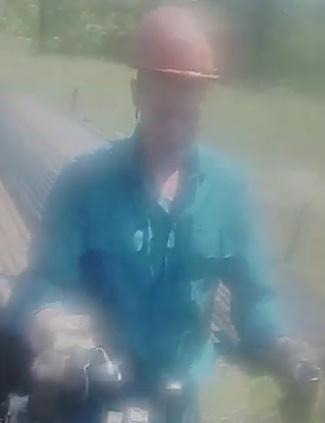gloves: (19, 294, 125, 421), (261, 330, 325, 423)
helmet: (126, 7, 221, 90)
vest: (37, 138, 270, 388)
